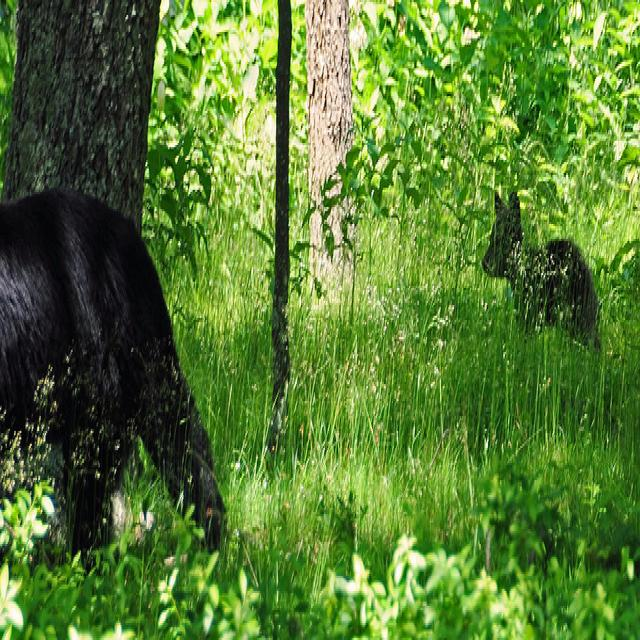Bear: (0, 183, 235, 538)
